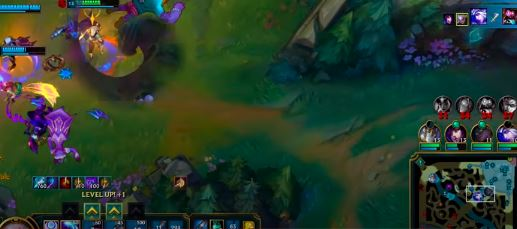bar: (1, 45, 47, 57), (1, 3, 43, 15), (67, 1, 122, 9)
